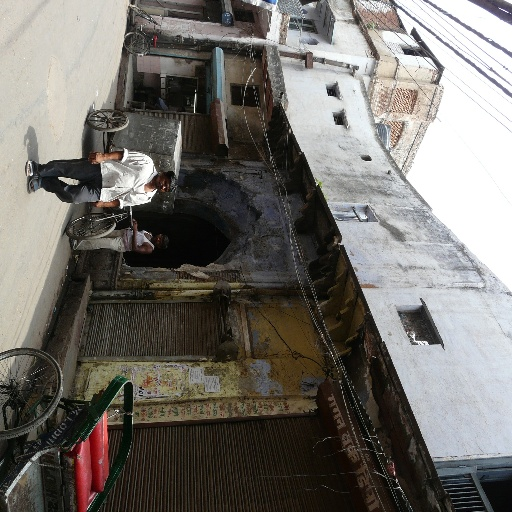hand: (89, 152, 102, 162), (91, 200, 101, 207), (132, 221, 137, 230)
